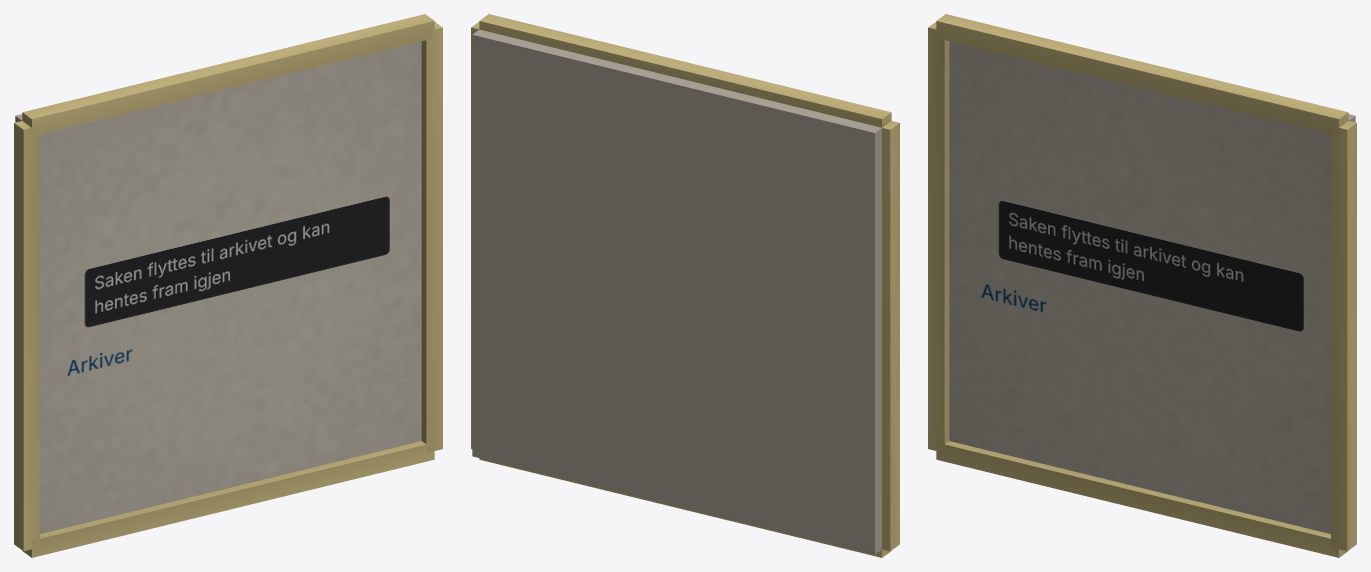
The model's file is gallery_tooltip.glb.
3 renders of one model, left to right at view 1: azimuth 30°, elevation 25°; view 2: azimuth 150°, elevation 25°; view 3: azimuth 330°, elevation 25°, orthographic.
Parts seen in each view (by area): view 1: plate; view 2: plate; view 3: plate.
Boxes of the visible parts, x1=… form: plate: x1=14, y1=14, x2=442, y2=557; plate: x1=471, y1=14, x2=899, y2=557; plate: x1=928, y1=14, x2=1356, y2=557.
Bounding box in the file's own units: 0.51 × 0.51 × 0.035.
2 materials, 1 textured.
